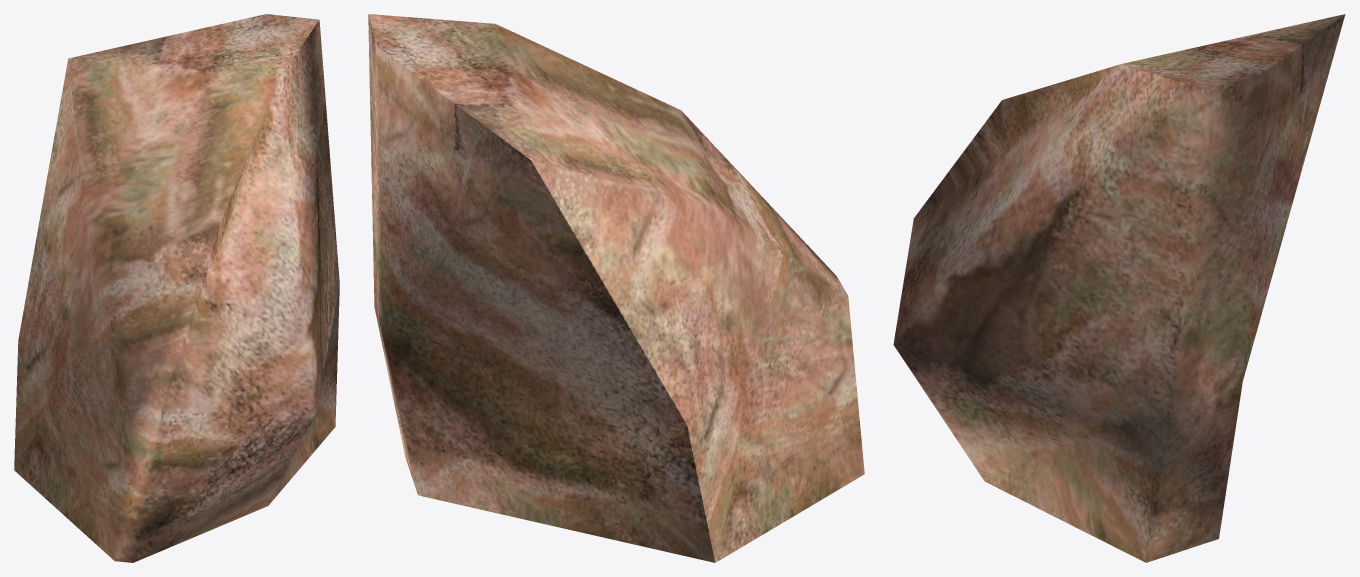
The model's file is SM_Sandstone_Rock_A_02.fbx.
3 renders of one model, left to right at view 1: azimuth 30°, elevation 25°; view 2: azimuth 150°, elevation 25°; view 3: azimuth 270°, elevation 25°, orthographic. The views are drawn at different scales.
Visible parts, largest first — view 1: SM_Sandstone_Rock_A_02; view 2: SM_Sandstone_Rock_A_02; view 3: SM_Sandstone_Rock_A_02.
Part boxes in pixels (x1,y1,x2,y2): SM_Sandstone_Rock_A_02: (14, 14, 339, 562); SM_Sandstone_Rock_A_02: (368, 14, 864, 562); SM_Sandstone_Rock_A_02: (893, 14, 1345, 562).
Size of the model in its own units: 75.54 by 88.01 by 75.4.
